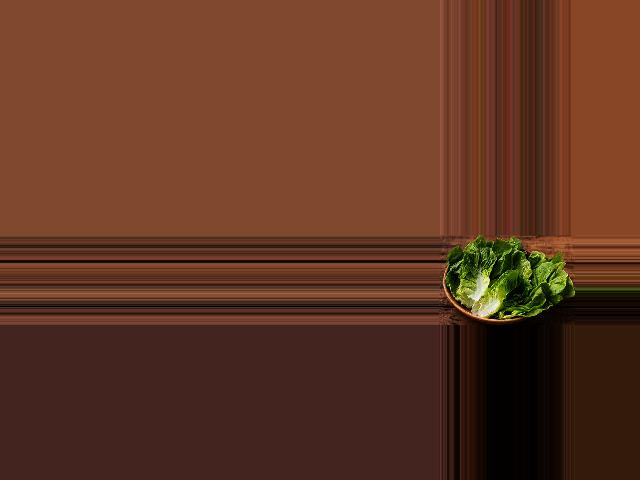lettuce: (437, 240, 572, 324)
